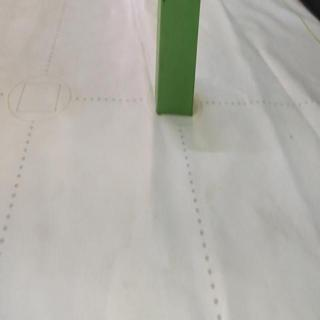greenbox: (156, 0, 201, 115)
